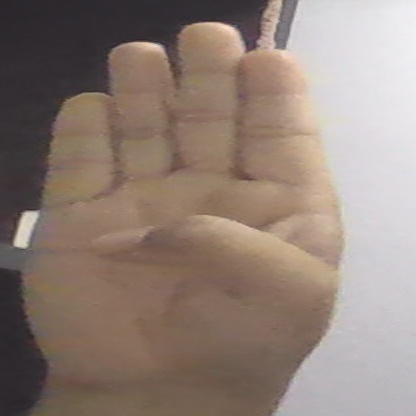B: (23, 23, 343, 399)
